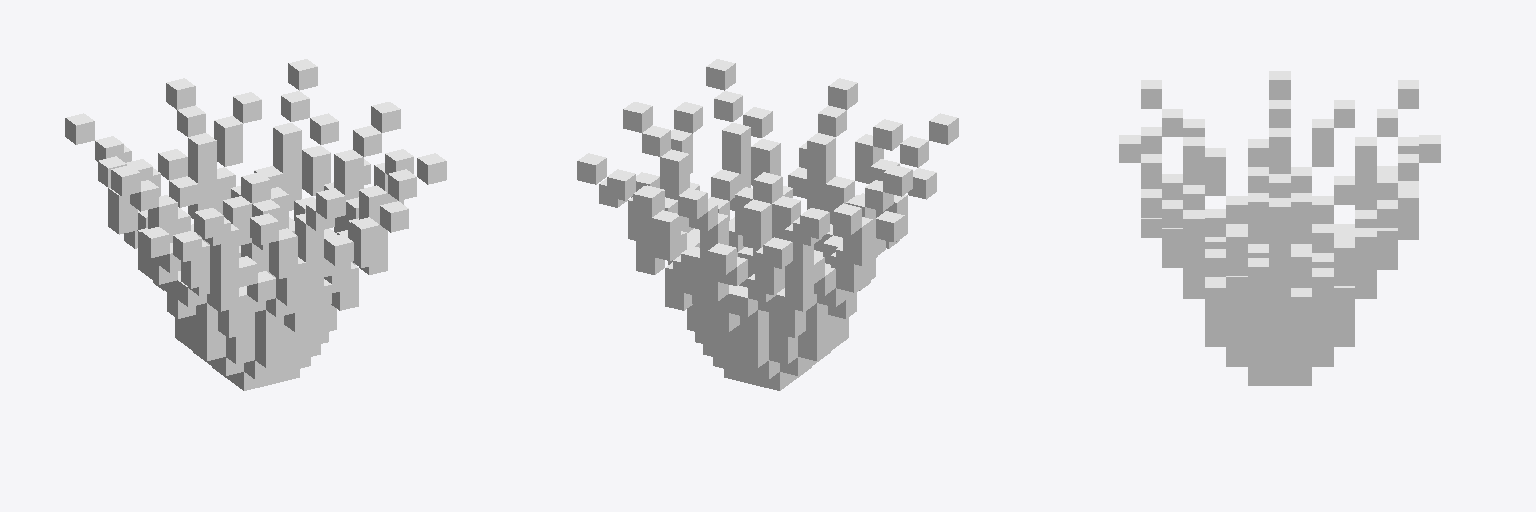
File: RedFlower.obj
3 views of the same model, side by side, from view 1: azimuth 30°, elevation 25°; view 2: azimuth 150°, elevation 25°; view 3: azimuth 270°, elevation 25° (orthographic).
Parts seen in each view (by area): view 1: object 1; view 2: object 1; view 3: object 1.
Boxes of the visible parts, x1=… form: object 1: x1=65, y1=59, x2=446, y2=390; object 1: x1=577, y1=59, x2=958, y2=390; object 1: x1=1119, y1=71, x2=1440, y2=385.
Size of the model in its own units: 1.5 by 1.2 by 1.5.